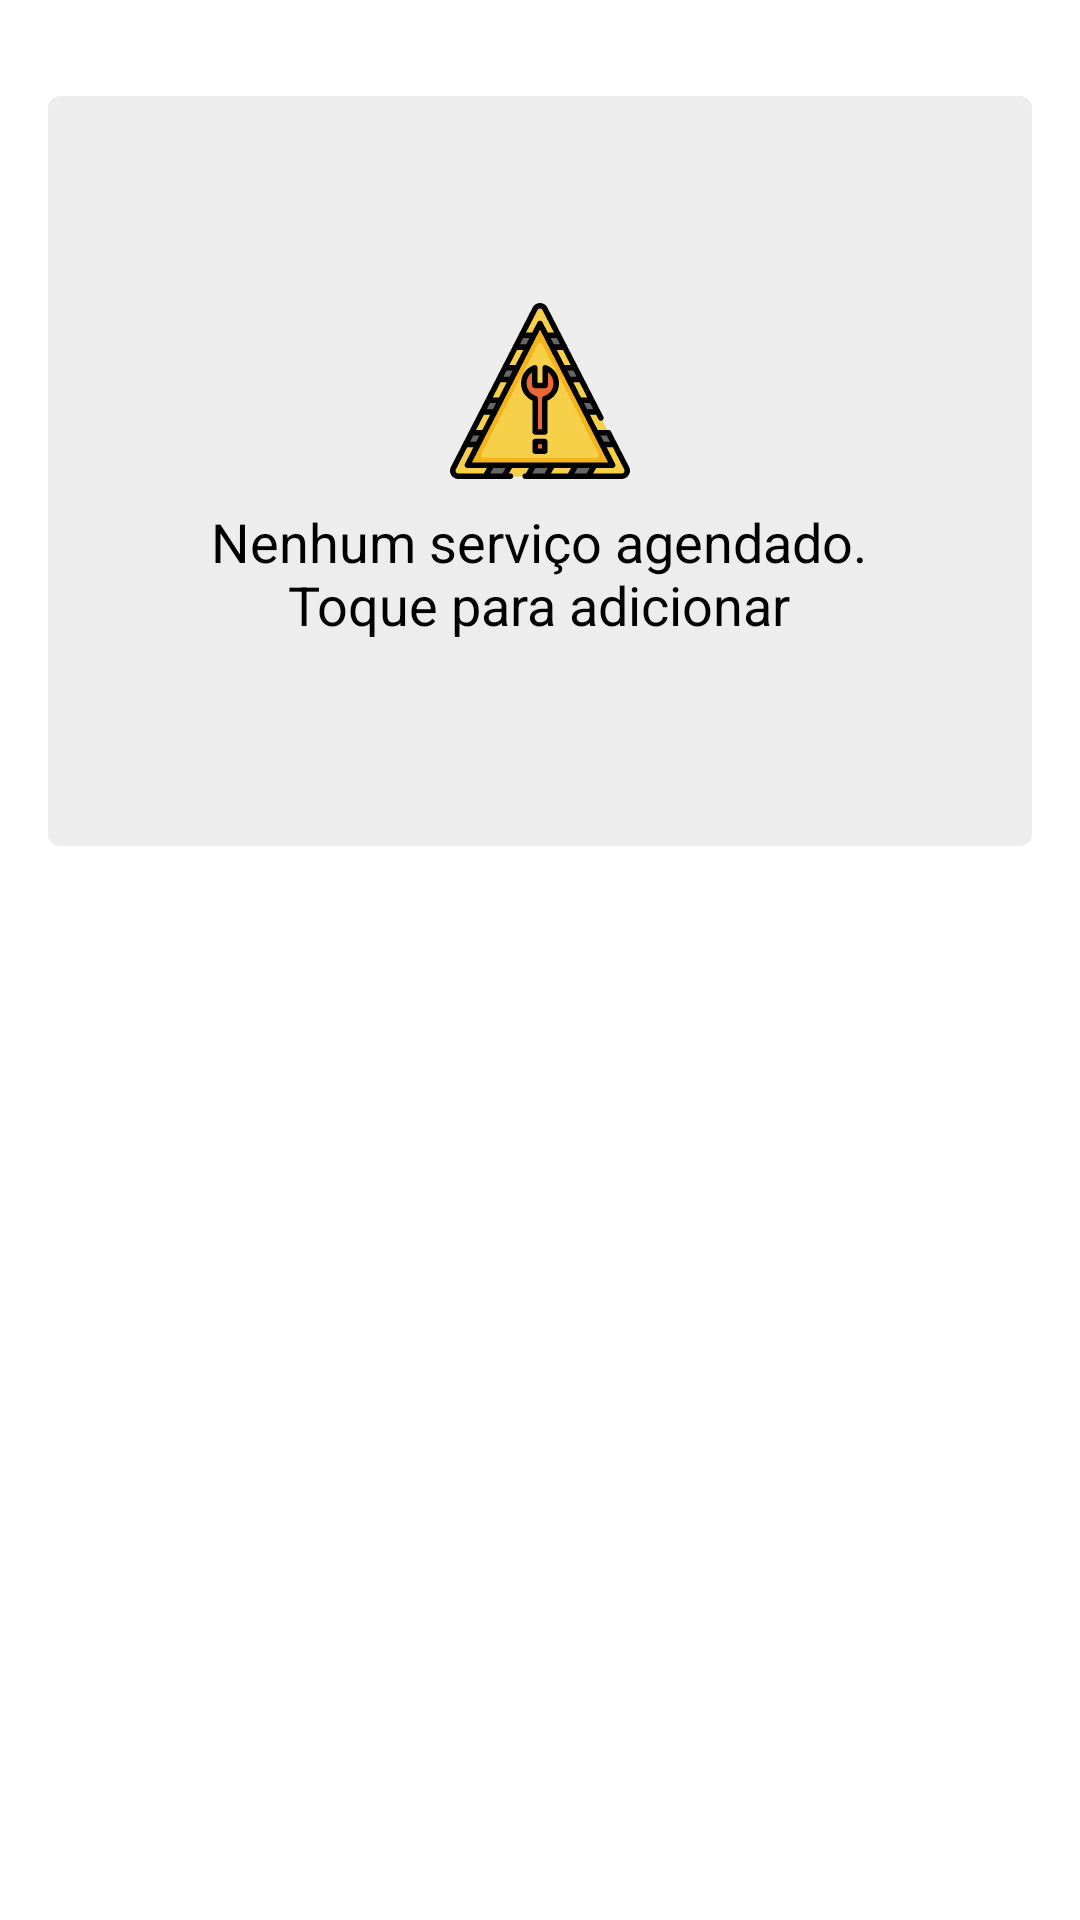

Icon click points for this 1080x1920 phone screenshot, format (x=x, y=y):
warning: (x=540, y=391)
